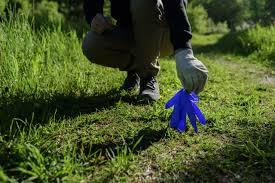Glove: (166, 89, 205, 132), (175, 49, 207, 93)
